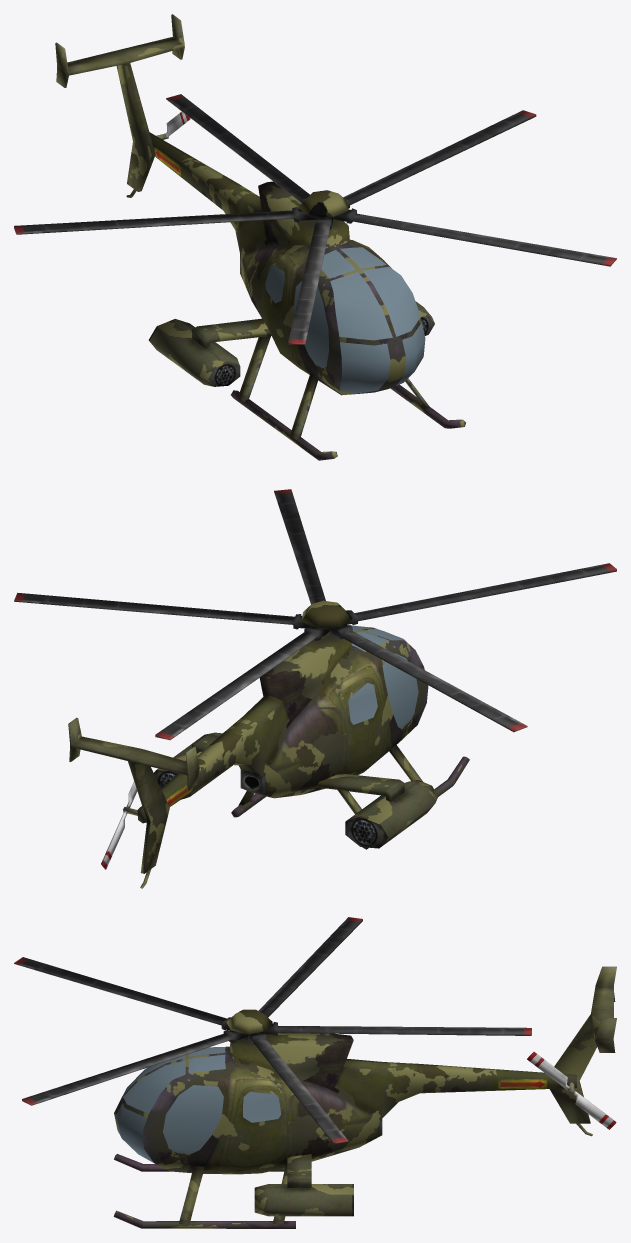
The model's file is MD-500_Defender_Helicopter.glb.
3 views of the same model, one above another, from view 1: azimuth 30°, elevation 25°; view 2: azimuth 150°, elevation 25°; view 3: azimuth 270°, elevation 25° (orthographic). The views are drawn at different scales.
Visible parts, largest first — view 1: Helicopter_Helicopter_Material_0, Top_rotor_Helicopter_Material_0, Glass_Glass_Material_0; view 2: Helicopter_Helicopter_Material_0, Top_rotor_Helicopter_Material_0, Glass_Glass_Material_0, Tail_Rotor_Helicopter_Material_0; view 3: Helicopter_Helicopter_Material_0, Top_rotor_Helicopter_Material_0, Glass_Glass_Material_0, Tail_Rotor_Helicopter_Material_0.
Boxes of the visible parts, left/top/right/bottom form: Helicopter_Helicopter_Material_0: left=55, top=14, right=465, bottom=460; Top_rotor_Helicopter_Material_0: left=14, top=94, right=616, bottom=344; Glass_Glass_Material_0: left=265, top=247, right=425, bottom=393; Helicopter_Helicopter_Material_0: left=68, top=627, right=469, bottom=888; Top_rotor_Helicopter_Material_0: left=14, top=489, right=616, bottom=740; Glass_Glass_Material_0: left=347, top=625, right=418, bottom=728; Tail_Rotor_Helicopter_Material_0: left=101, top=781, right=137, bottom=869; Helicopter_Helicopter_Material_0: left=113, top=966, right=616, bottom=1228; Top_rotor_Helicopter_Material_0: left=14, top=917, right=531, bottom=1144; Glass_Glass_Material_0: left=115, top=1046, right=281, bottom=1162; Tail_Rotor_Helicopter_Material_0: left=527, top=1052, right=616, bottom=1129.
Bounding box in the file's own units: 11.65 × 4.91 × 13.15.
3 materials, 2 textured.
